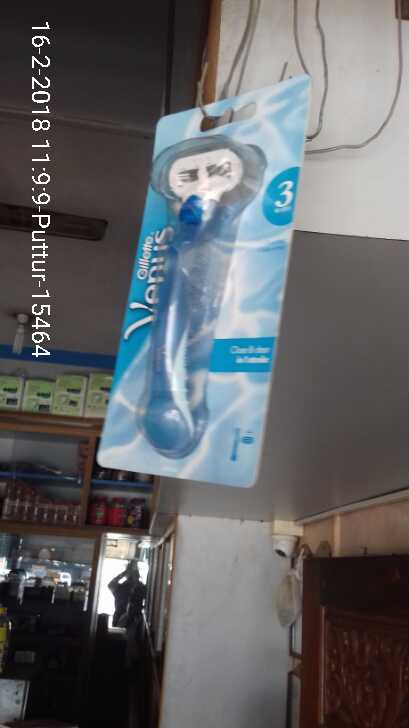venus: (92, 82, 319, 487)
